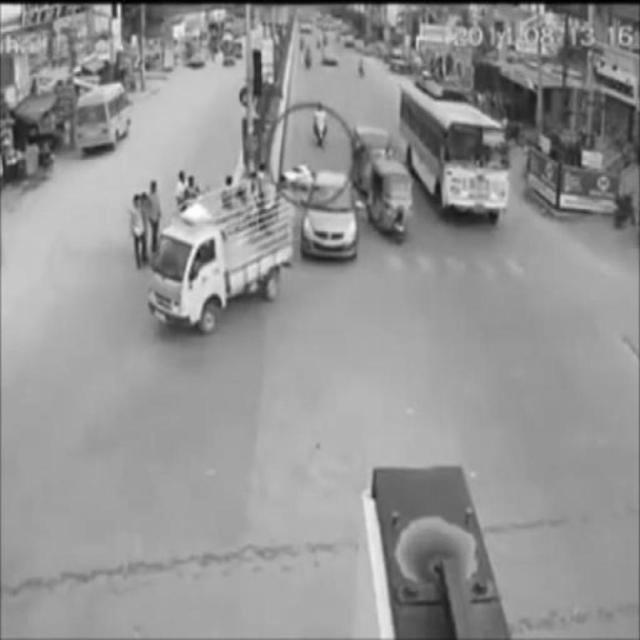person: (128, 196, 146, 266)
vehicle: (144, 195, 292, 335), (397, 81, 510, 227), (303, 165, 360, 256), (78, 81, 135, 151), (371, 158, 413, 246), (312, 100, 330, 151)
